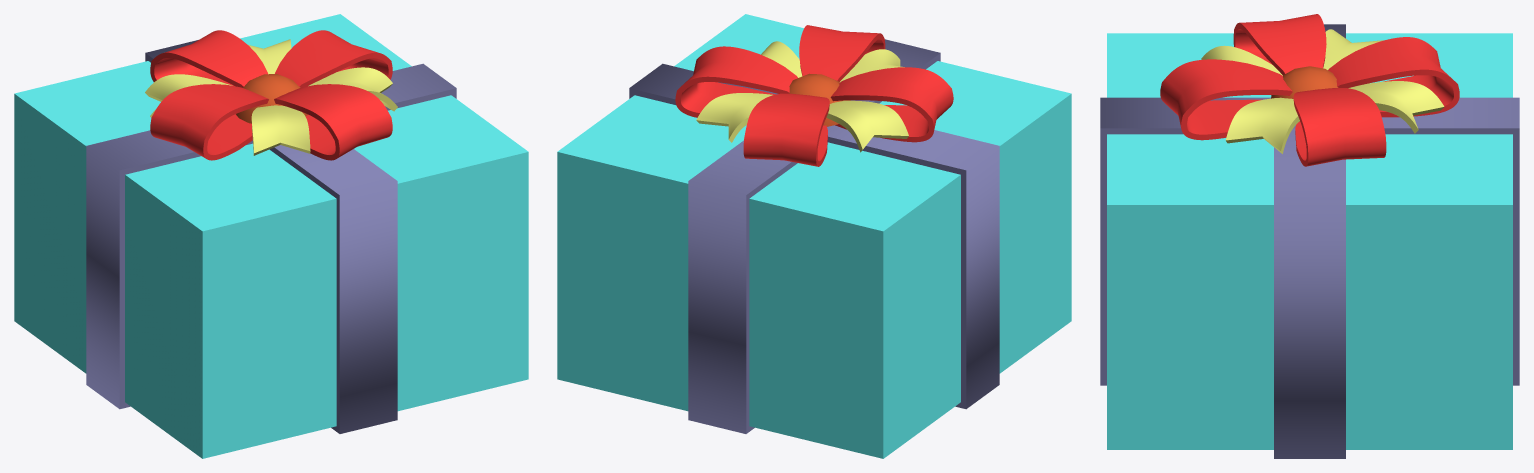
The model's file is gift_box.fbx.
3 renders of one model, left to right at view 1: azimuth 30°, elevation 25°; view 2: azimuth 150°, elevation 25°; view 3: azimuth 270°, elevation 25°, orthographic. The views are drawn at different scales.
Parts seen in each view (by area): view 1: Box018, Shape001, Line003, Line001, Line004, Line002, Box019; view 2: Box018, Shape001, Line003, Line001, Line002, Line004, Box019; view 3: Box018, Shape001, Line001, Line003, Line002, Line004, Box019.
Boxes of the visible parts, bbox=[...] form: Box018: bbox=[14, 14, 528, 458]; Shape001: bbox=[86, 40, 456, 433]; Line003: bbox=[150, 30, 392, 160]; Line001: bbox=[150, 30, 392, 160]; Line004: bbox=[248, 39, 310, 155]; Line002: bbox=[145, 67, 397, 117]; Box019: bbox=[236, 73, 307, 123]; Box018: bbox=[557, 14, 1071, 458]; Shape001: bbox=[629, 39, 999, 433]; Line003: bbox=[675, 46, 953, 142]; Line001: bbox=[743, 25, 885, 166]; Line002: bbox=[761, 41, 908, 152]; Line004: bbox=[696, 49, 904, 142]; Box019: bbox=[789, 73, 850, 126]; Box018: bbox=[1107, 33, 1512, 449]; Shape001: bbox=[1100, 24, 1519, 458]; Line001: bbox=[1160, 37, 1459, 140]; Line003: bbox=[1233, 14, 1386, 166]; Line002: bbox=[1225, 29, 1383, 153]; Line004: bbox=[1201, 45, 1444, 133]; Box019: bbox=[1271, 66, 1338, 121].
Bounding box in the file's own units: 46.5 × 37.39 × 46.5.
